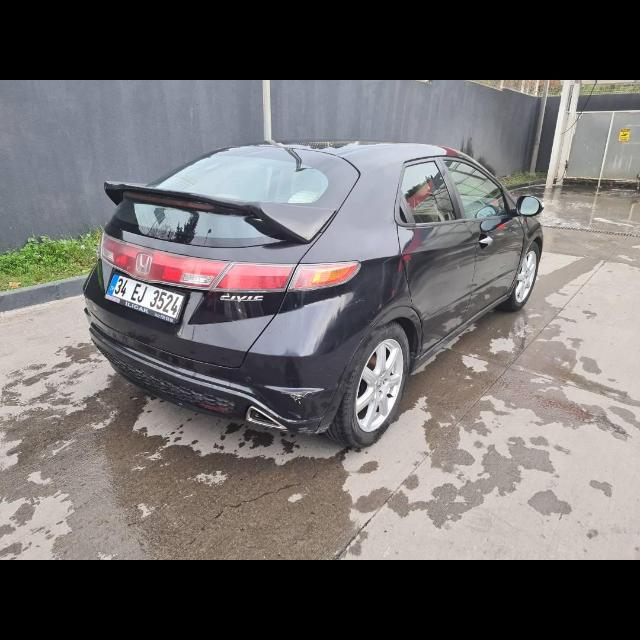Plaka: (106, 273, 182, 319)
